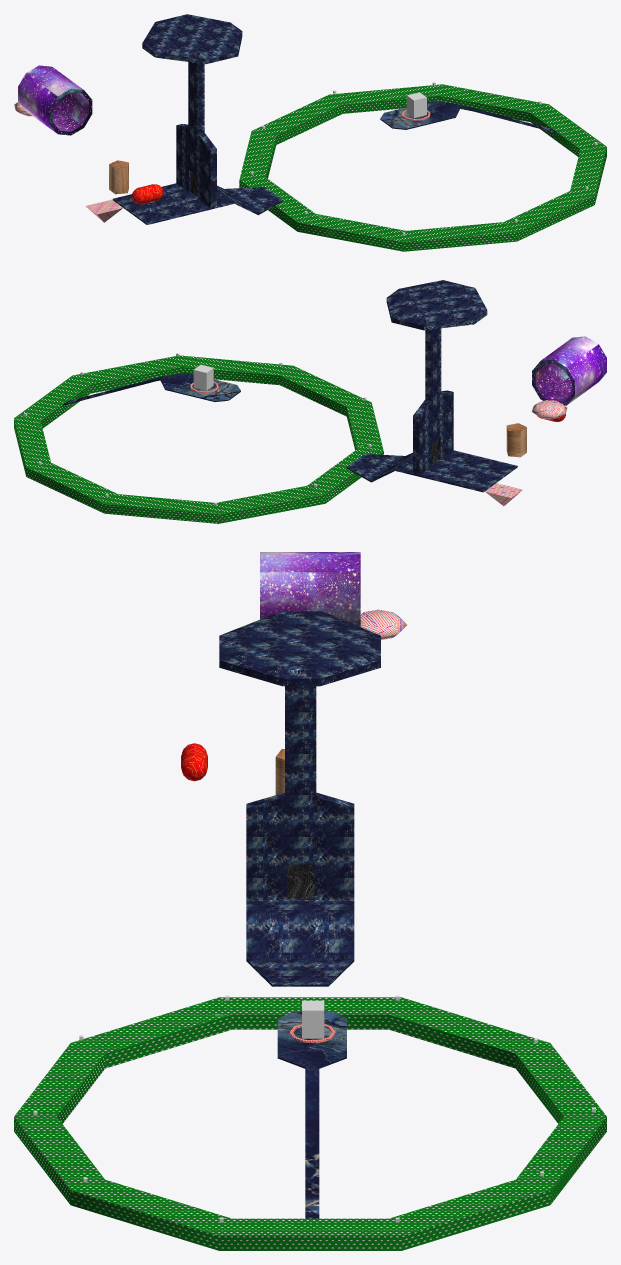
Rendered from Level8.FBX.
3 views of the same model, one above another, from view 1: azimuth 30°, elevation 25°; view 2: azimuth 150°, elevation 25°; view 3: azimuth 270°, elevation 25° (orthographic). The views are drawn at different scales.
Visible parts, largest first — view 1: Tube002, Box001, Tube001, Box003, Cylinder001, OilTank001, Pyramid001, TriggerBox_JumpToLevel9; view 2: Tube002, Box001, Tube001, Box003, Cylinder001, Sphere001, Pyramid001, TriggerBox_JumpToLevel9; view 3: Tube002, Box001, Tube001, Box003, Sphere001, Box002.
Boxes of the visible parts, bbox=[...] form: Tube002: bbox=[239, 84, 606, 251]; Box001: bbox=[112, 14, 282, 224]; Tube001: bbox=[18, 65, 92, 135]; Box003: bbox=[380, 100, 557, 133]; Cylinder001: bbox=[109, 160, 128, 194]; OilTank001: bbox=[132, 184, 163, 204]; Pyramid001: bbox=[85, 199, 122, 222]; TriggerBox_JumpToLevel9: bbox=[406, 92, 426, 117]; Tube002: bbox=[14, 355, 383, 523]; Box001: bbox=[346, 280, 517, 492]; Tube001: bbox=[532, 336, 606, 405]; Box003: bbox=[63, 372, 240, 405]; Cylinder001: bbox=[506, 423, 526, 457]; Sphere001: bbox=[531, 400, 567, 419]; Pyramid001: bbox=[485, 483, 522, 506]; TriggerBox_JumpToLevel9: bbox=[193, 364, 213, 390]; Tube002: bbox=[14, 997, 606, 1250]; Box001: bbox=[219, 611, 380, 986]; Tube001: bbox=[260, 552, 360, 626]; Box003: bbox=[277, 1011, 346, 1218]; Sphere001: bbox=[360, 609, 406, 639]; Box002: bbox=[286, 864, 314, 898].
Bounding box in the file's own units: 262 × 90.48 × 157.
Materials: 8 (8 with a texture image).
